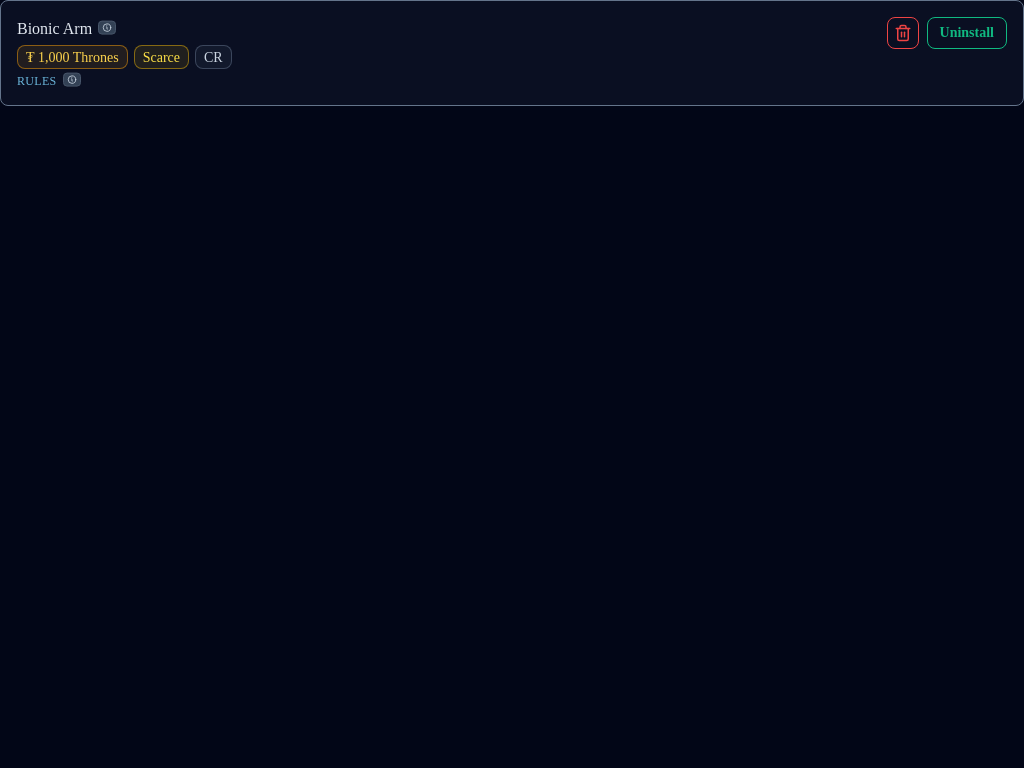
ImplantRow › shows the item rules behind the Rules line
What coordinates should you click on to do the following:
click the button named "Show information about Bionic Arm Rules"
I would click on:
 (72, 80)
Its box is [62,73,80,87].
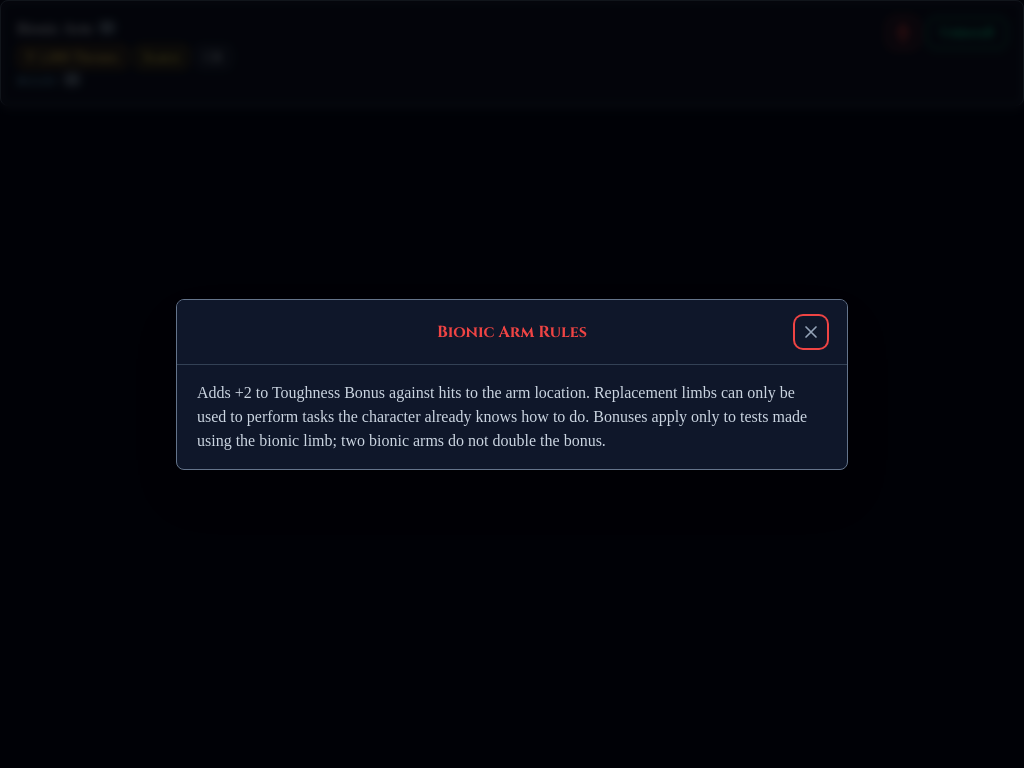
Check: the dialog "Bionic Arm Rules" shows "Toughness Bonus against hits to the arm location", box [197,384,807,448]
